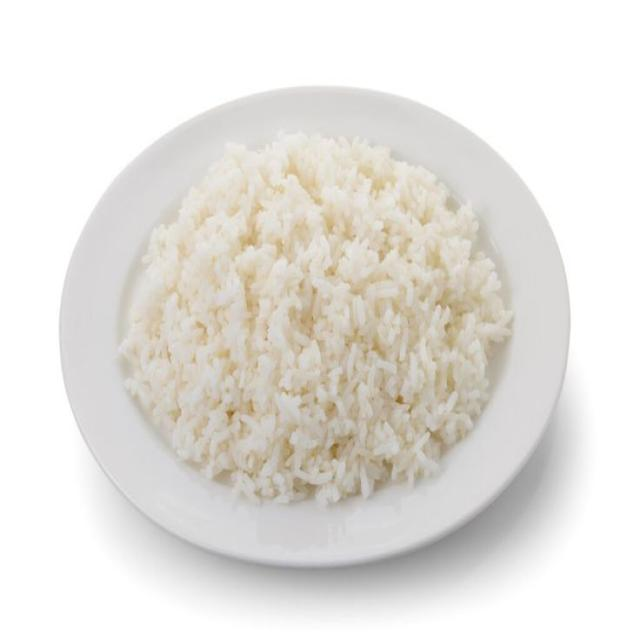Chicken -Chicken Inasal-: (166, 129, 488, 500)
